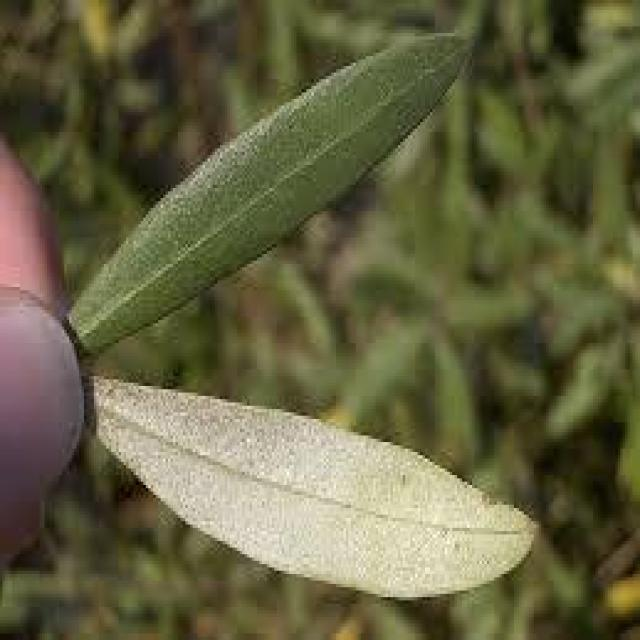Healthy: (69, 33, 469, 353), (86, 376, 534, 597)
